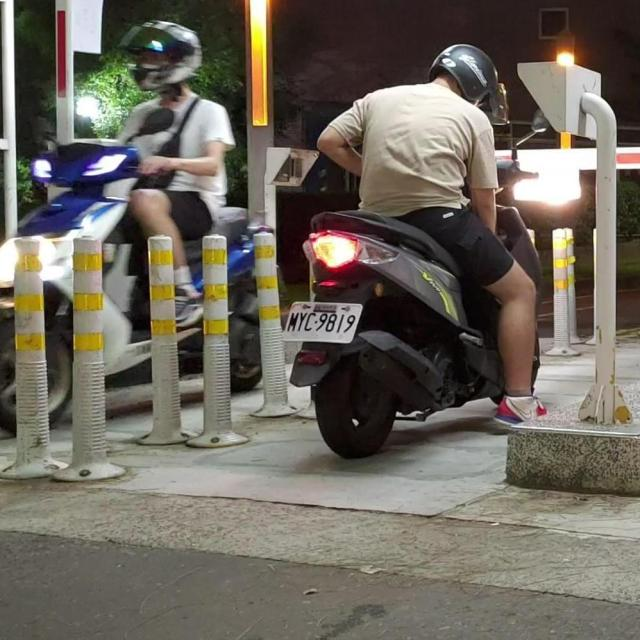W: (280, 299, 362, 343)
